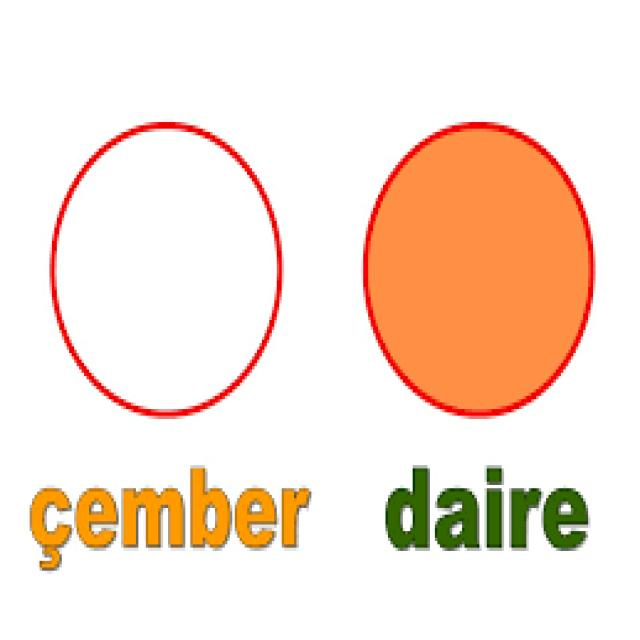-circle-round-: (36, 113, 291, 423), (348, 114, 602, 425)
